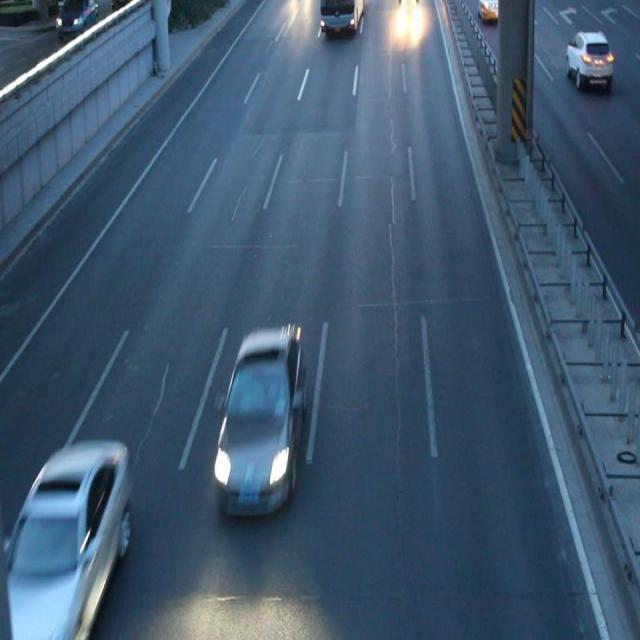car: (1, 435, 132, 640), (217, 323, 299, 510), (565, 33, 612, 88), (476, 1, 502, 23)
van: (318, 1, 358, 33)
